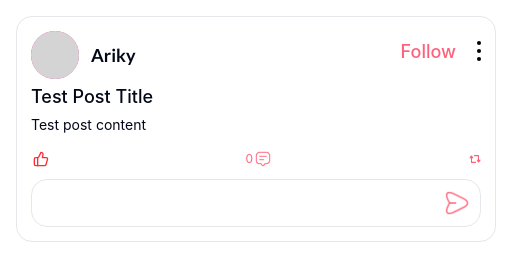
Test: PostCard › Options menu › should show options menu when options icon is clicked
This screenshot has width=513, height=259.
Click the element with test id "options-icon". click: click(479, 51)
box: [477,41,481,61]
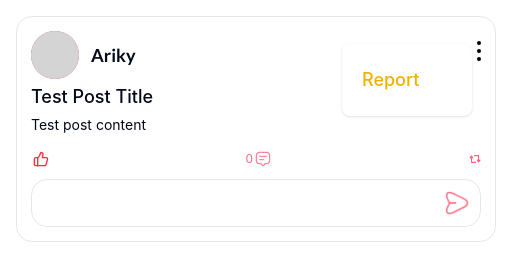
Now the element with test id "options" is shown, box [342,44,472,116]
